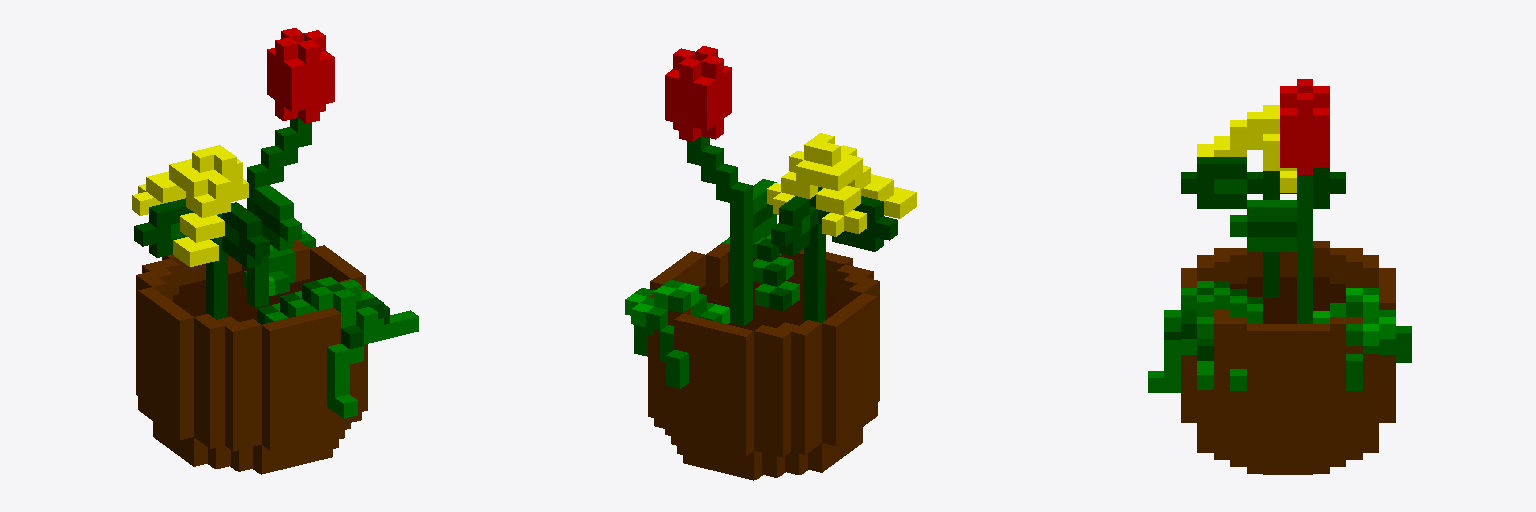
3 views of the same model, side by side, from view 1: azimuth 30°, elevation 25°; view 2: azimuth 150°, elevation 25°; view 3: azimuth 270°, elevation 25° (orthographic).
Visible parts, largest first — view 1: object 1; view 2: object 1; view 3: object 1.
Part boxes in pixels (left/top/right/bottom): object 1: left=132, top=28, right=418, bottom=474; object 1: left=625, top=46, right=916, bottom=480; object 1: left=1148, top=79, right=1411, bottom=474.
Bounding box in the file's own units: 1.7 × 2.6 × 1.6.
Materials: 1 (1 with a texture image).